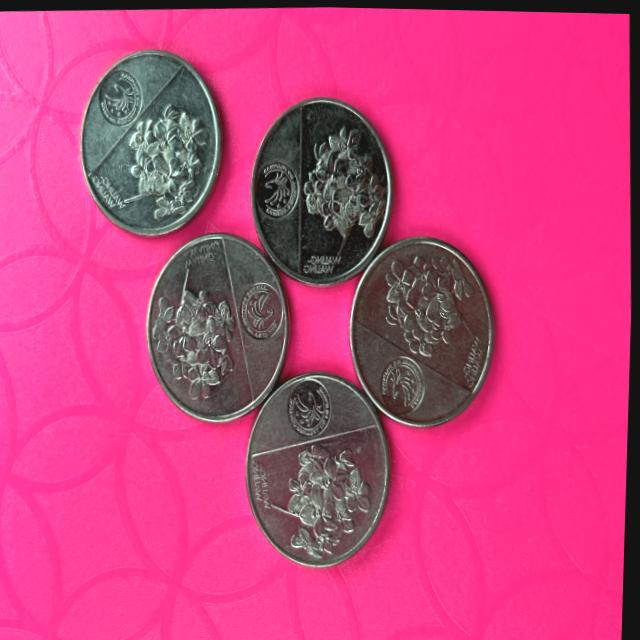1_New_Back: (372, 248, 482, 364), (277, 429, 378, 550), (302, 125, 389, 251), (116, 114, 220, 218), (164, 293, 252, 408)
